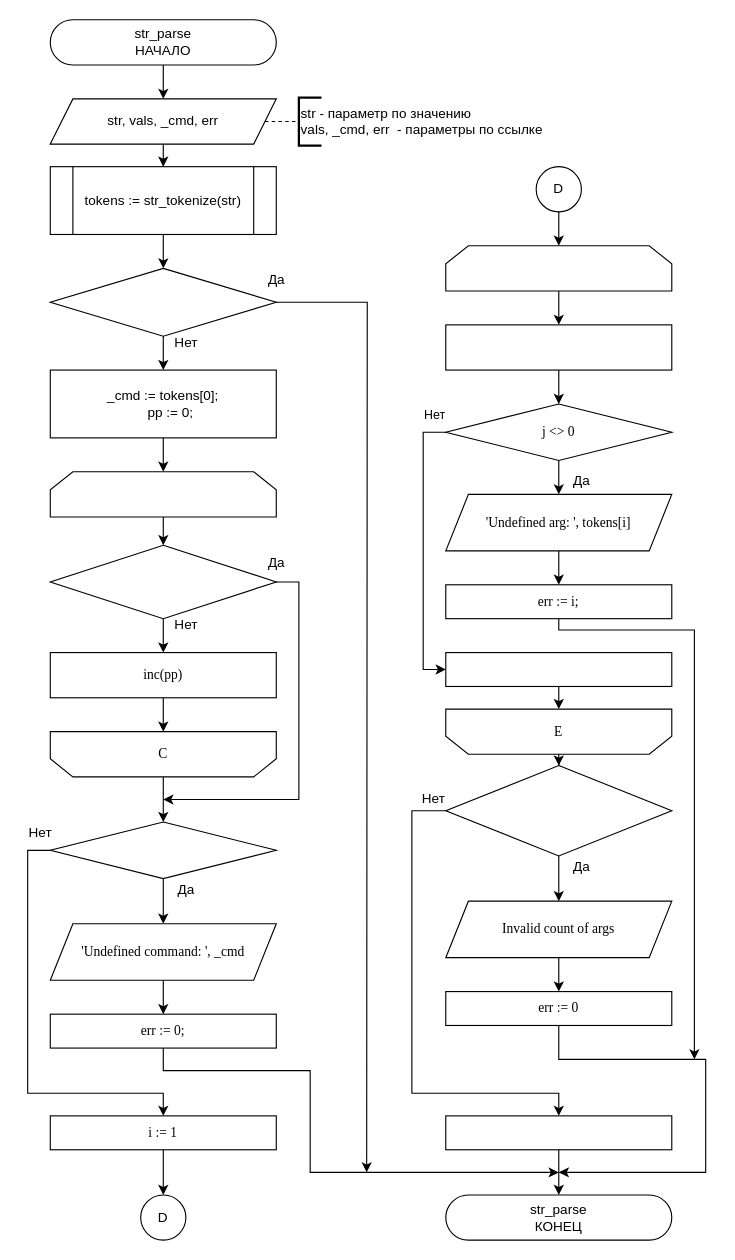
This 735x1260 diagram has some shape labels left out. The centre of each missing label's shape, as x and y in pixels:
"_cmd = cmdlist[pp]" goes at [162,581].
"arg_num[pp] <> length(tokens) - 1" goes at [558,810].
"E i > length(tokens) - 1" goes at [558,268].
"err := -1;" goes at [558,1132].
"inc(i)" goes at [558,668].
"length(tokens) = 0" goes at [162,301].
"pp = cmdlist_size" goes at [162,850].
"val(tokens[i], vals[i - 1], j);" goes at [558,347].
"С pp >= cmdlist_size" goes at [162,494].
